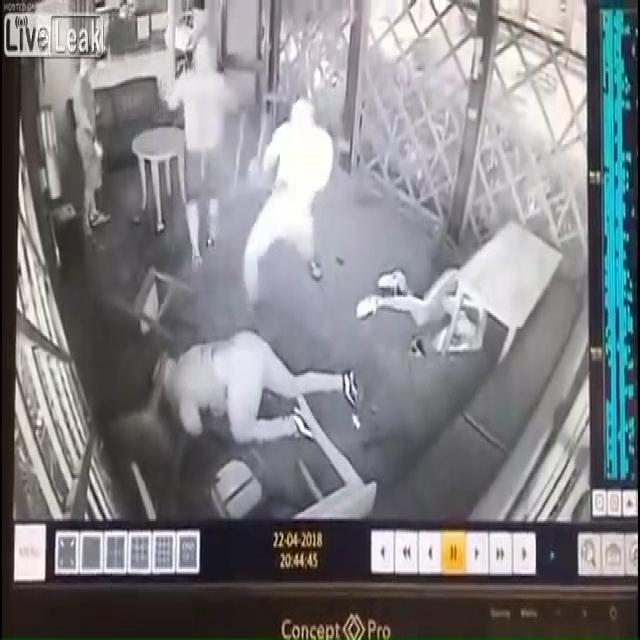fight: (156, 94, 340, 440)
